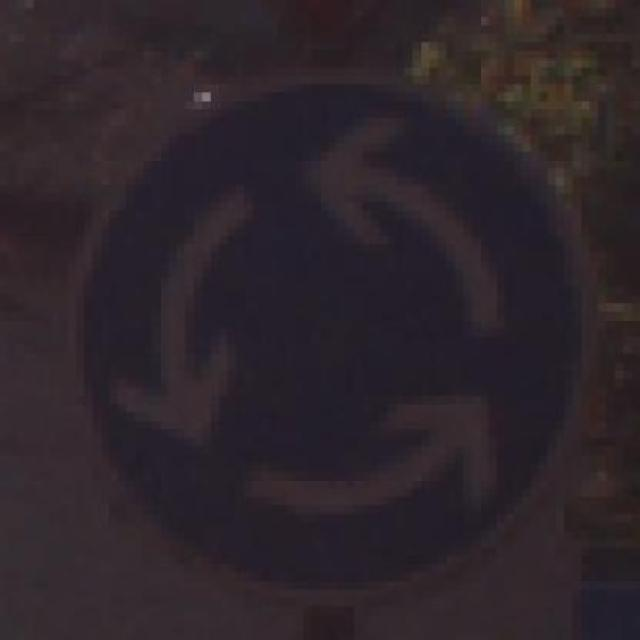Round-About: (59, 67, 623, 590)
